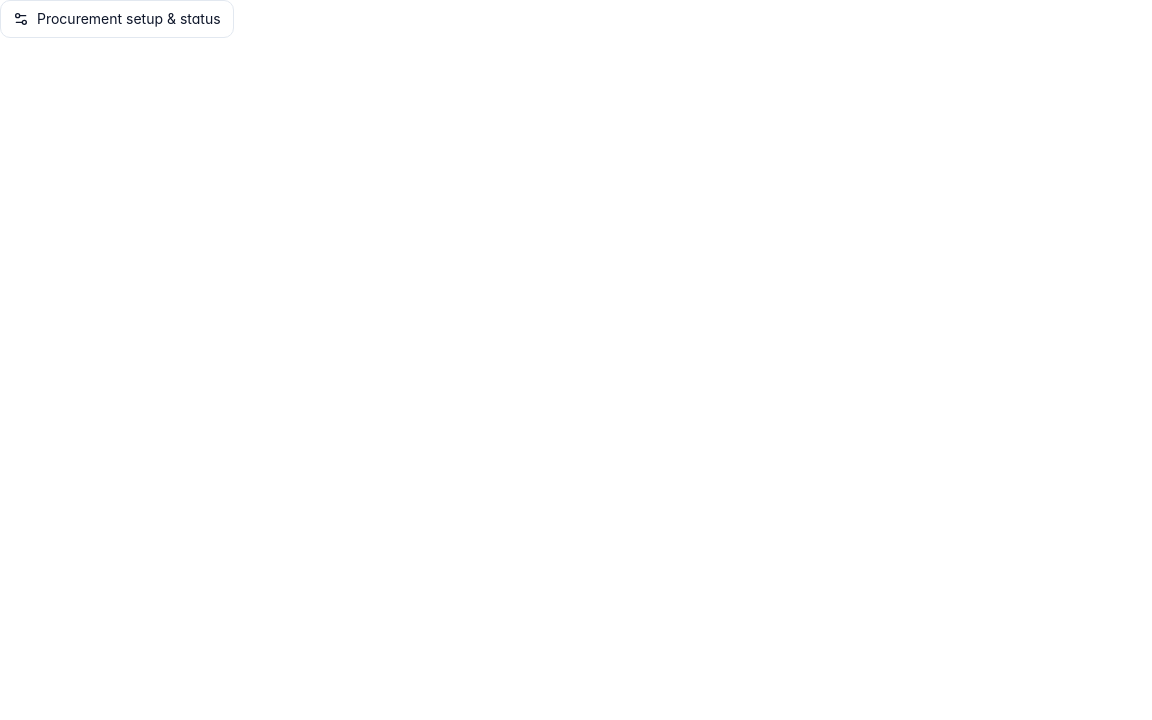
Test case: reviews actual project mappings and leaves missing context visible
Click the button "Procurement setup & status" at (117, 19), box [0,0,234,38]
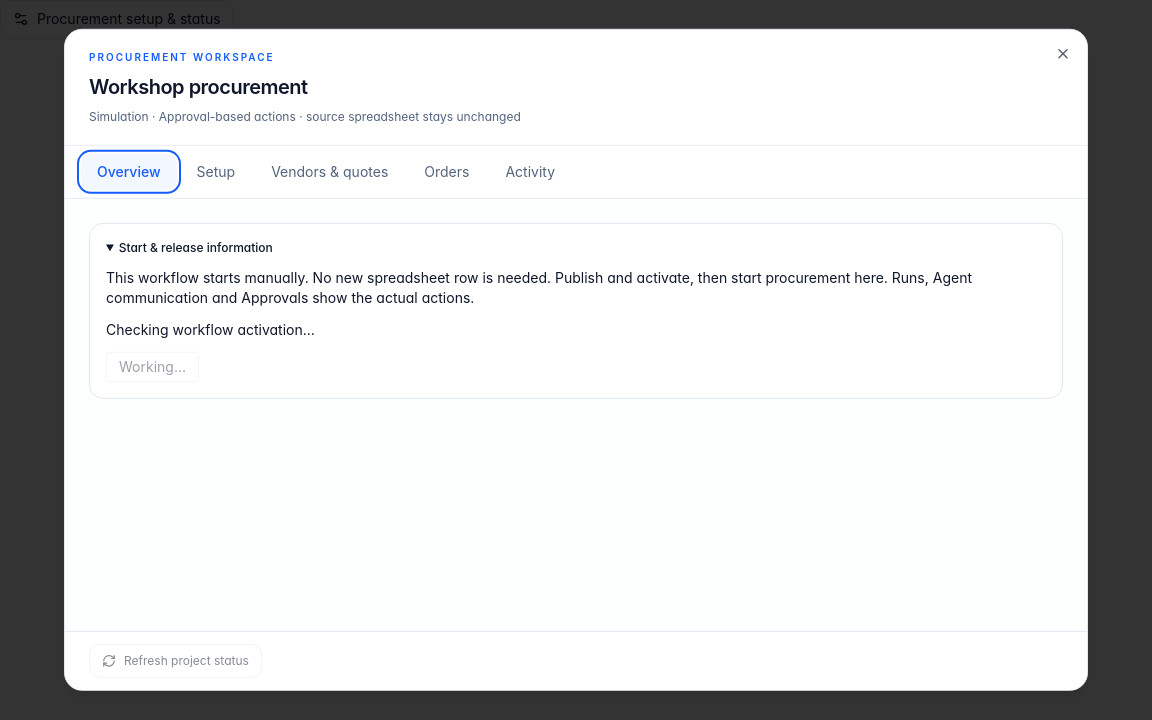
Click the button "Setup" at (216, 172), box [180,154,251,190]
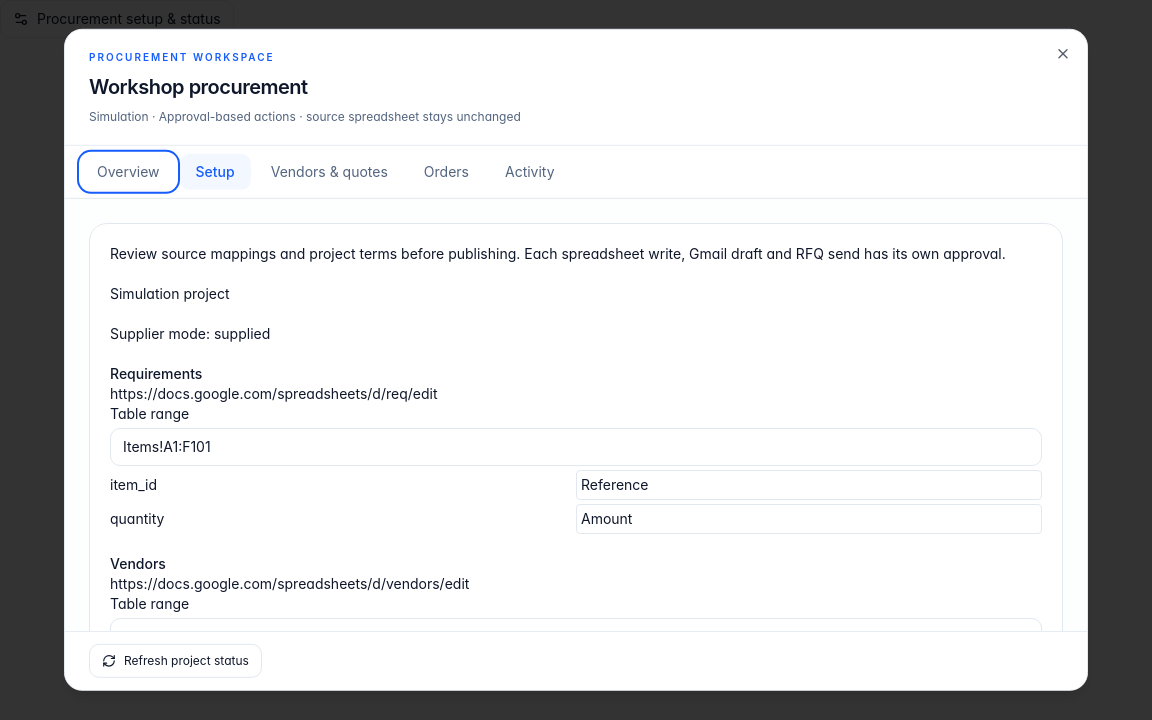
Expected: the field showing "Amount" is disabled, [576,504,1042,534]
Expected: the text "each spreadsheet write, Gmail draft and RFQ send" is shown, [524,245,1006,262]
